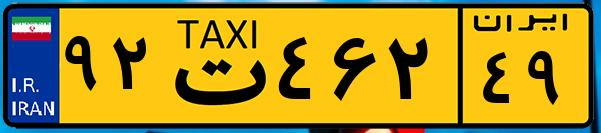2: (385, 28, 445, 110), (110, 28, 158, 98)
4: (270, 28, 330, 110), (475, 38, 525, 113)
6: (330, 28, 385, 110)
9: (57, 26, 110, 100), (525, 38, 570, 115)
ت: (158, 12, 270, 120)
